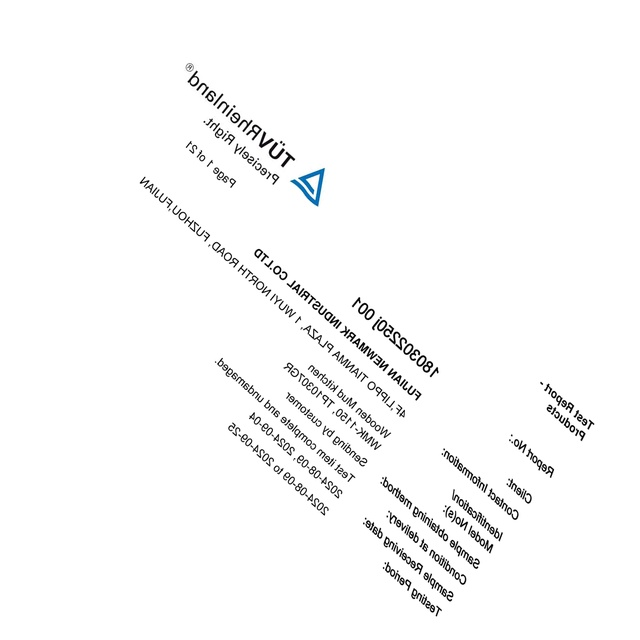tuv_rheinland: (182, 61, 327, 208)
